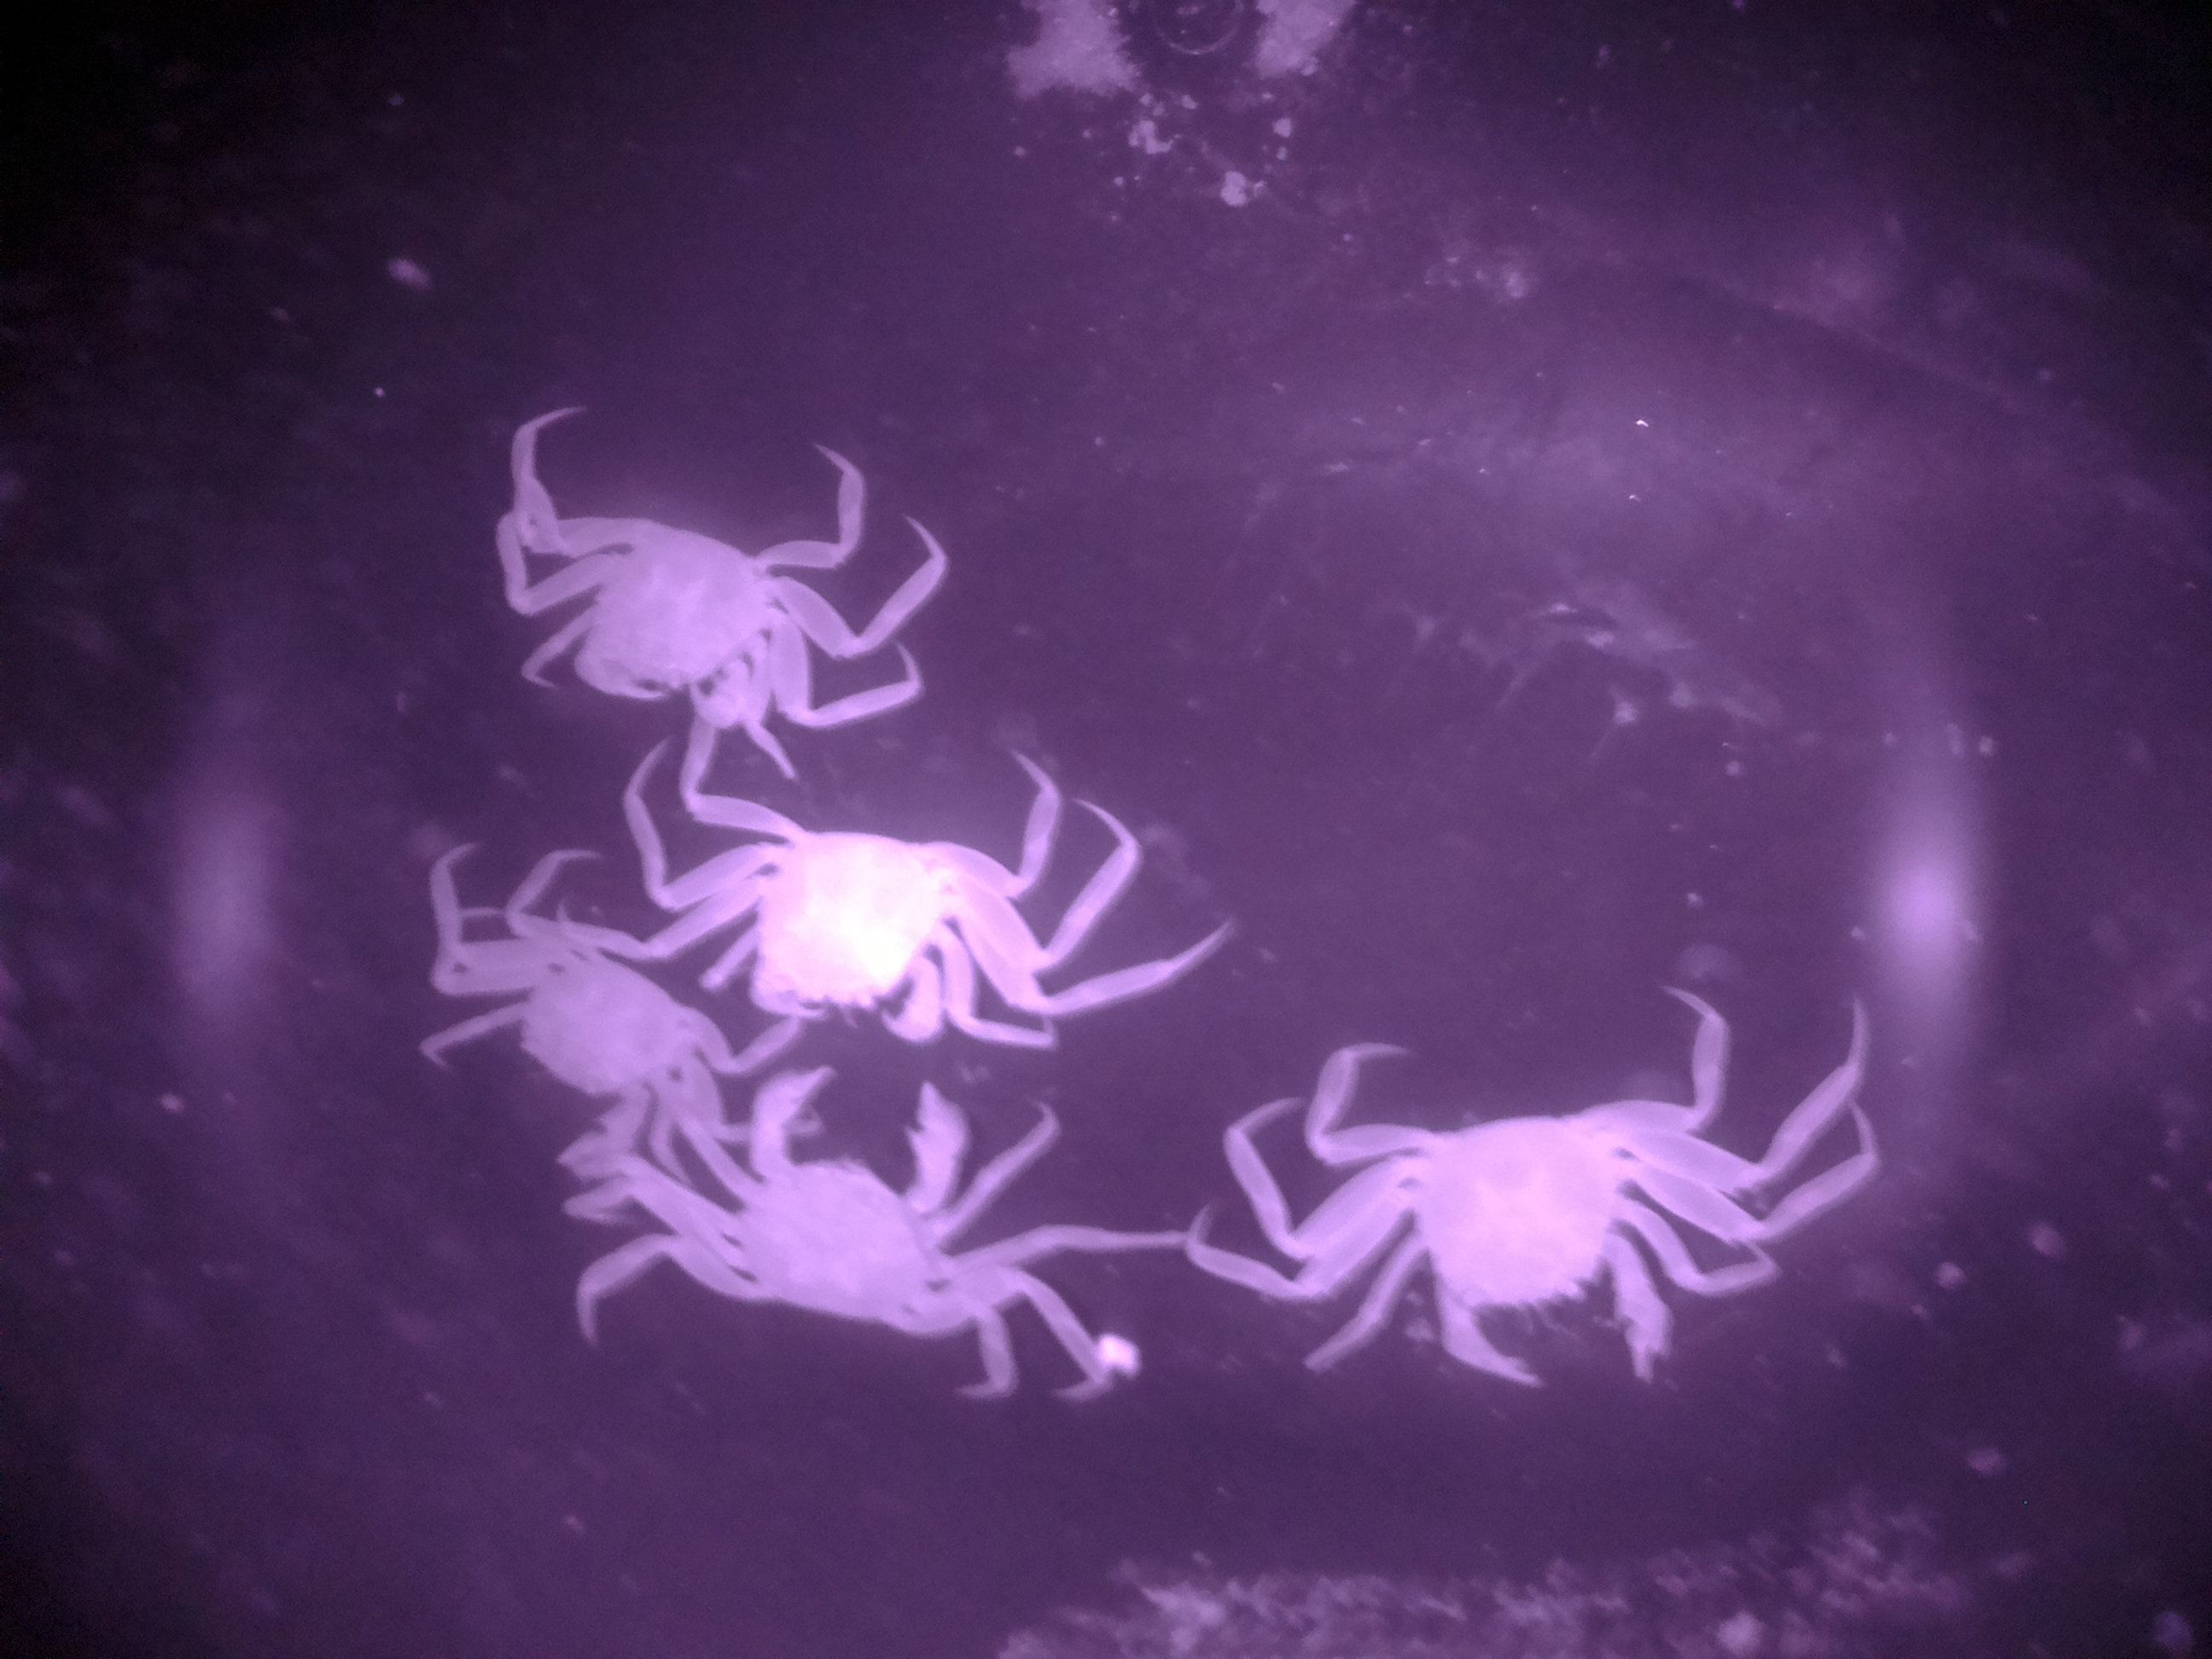Crab: (1278, 1018, 1745, 1441), (660, 1040, 1120, 1453), (644, 775, 1096, 1079), (488, 404, 860, 769)
